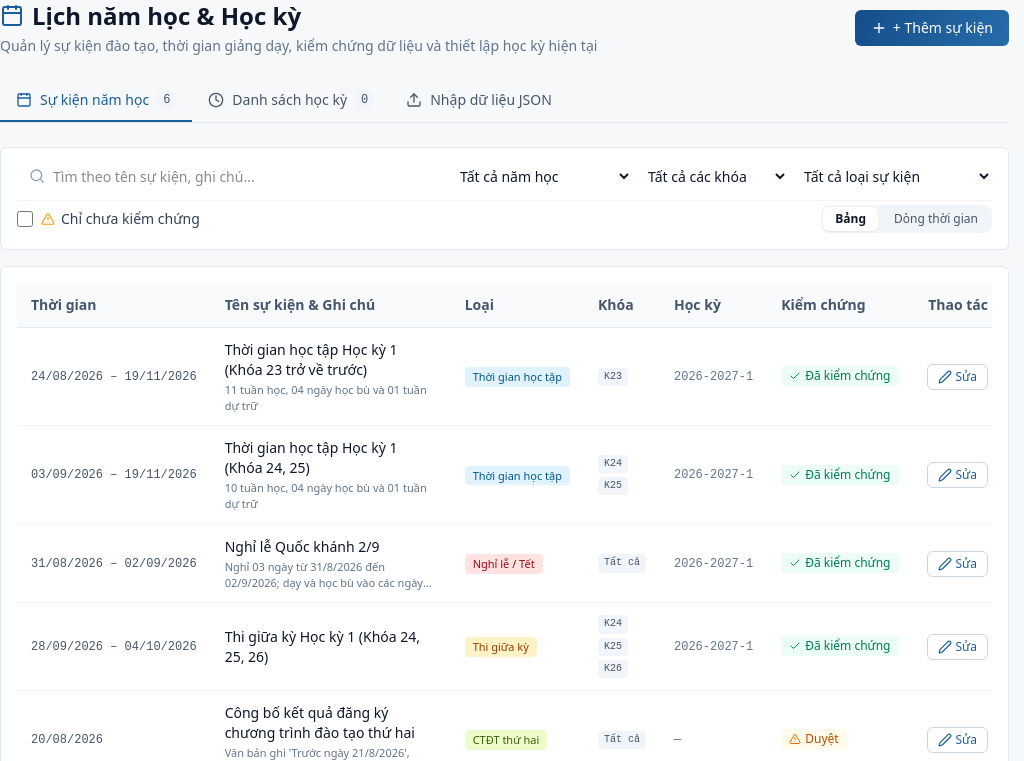
Test: Brief A5: Quản trị Lịch năm học & Học kỳ (/admin/calendar) › 1. Tab Sự kiện năm học (Events Tab) › mở drawer Thêm sự kiện, nhập form và lưu thành công
The image size is (1024, 761).
Later steps or results of the test are not shown.
Expected: the text "Thời gian học tập Học kỳ 1 (Khóa 23 trở về trước)" is shown, x1=225 y1=340 x2=397 y2=379
Bấm nút "+ Thêm sự kiện"
Click the button "+ Thêm sự kiện" at (932, 28), box x1=855 y1=10 x2=1009 y2=46
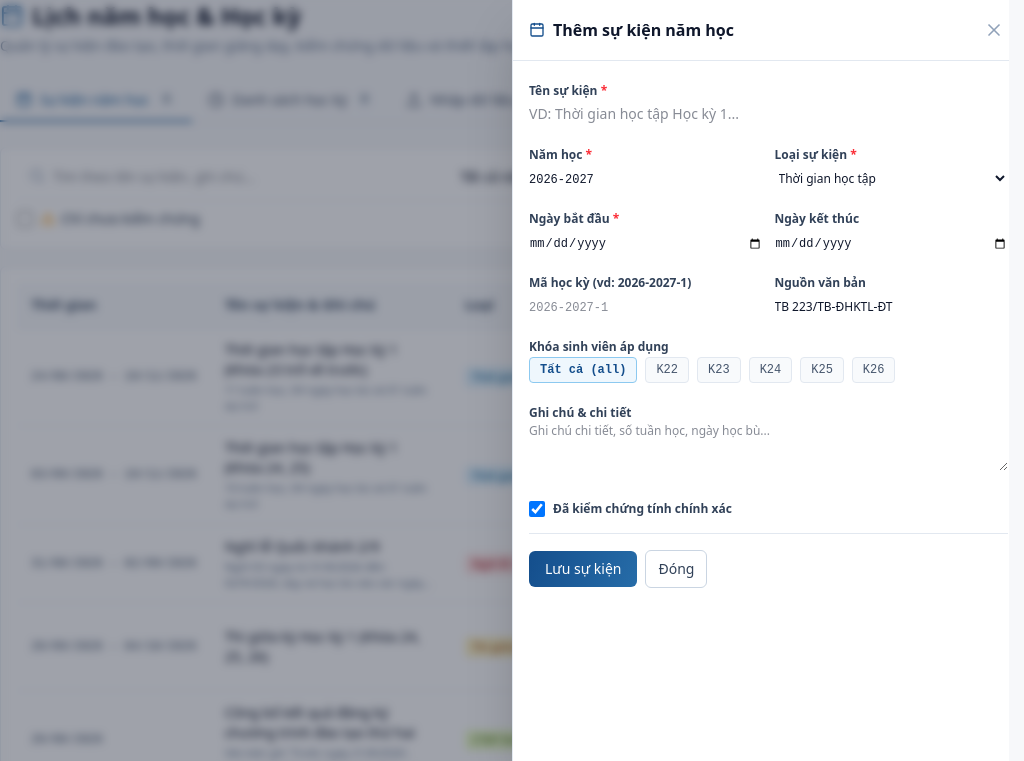
Now the heading "Thêm sự kiện năm học" is shown, box x1=529 y1=18 x2=734 y2=42
